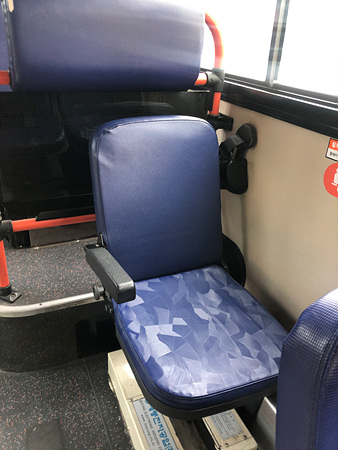seat: (97, 116, 281, 407)
